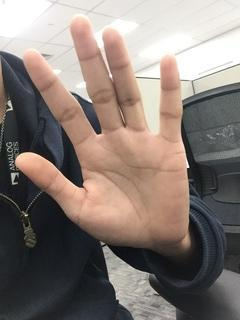hand: (12, 16, 190, 242)
